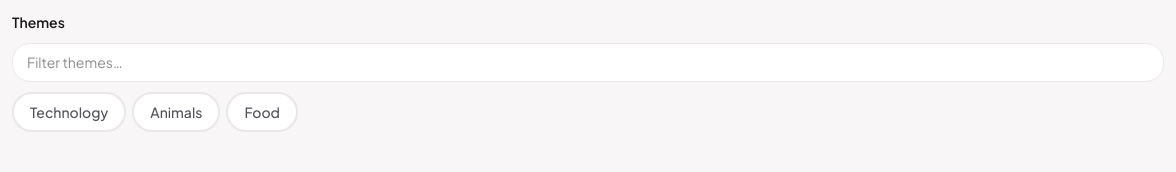
Test: TagPicker › filters options by typed text (case-insensitive)
The image size is (1176, 172).
Type "tech" into the field at x=588, y=62, box left=12, top=43, right=1164, bottom=82
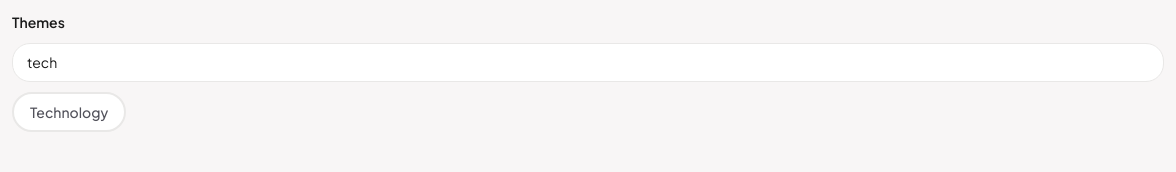
Check: the button "Technology" is shown, box left=12, top=92, right=126, bottom=132
Check: the button "Animals" is gone
Check: the button "Food" is gone
